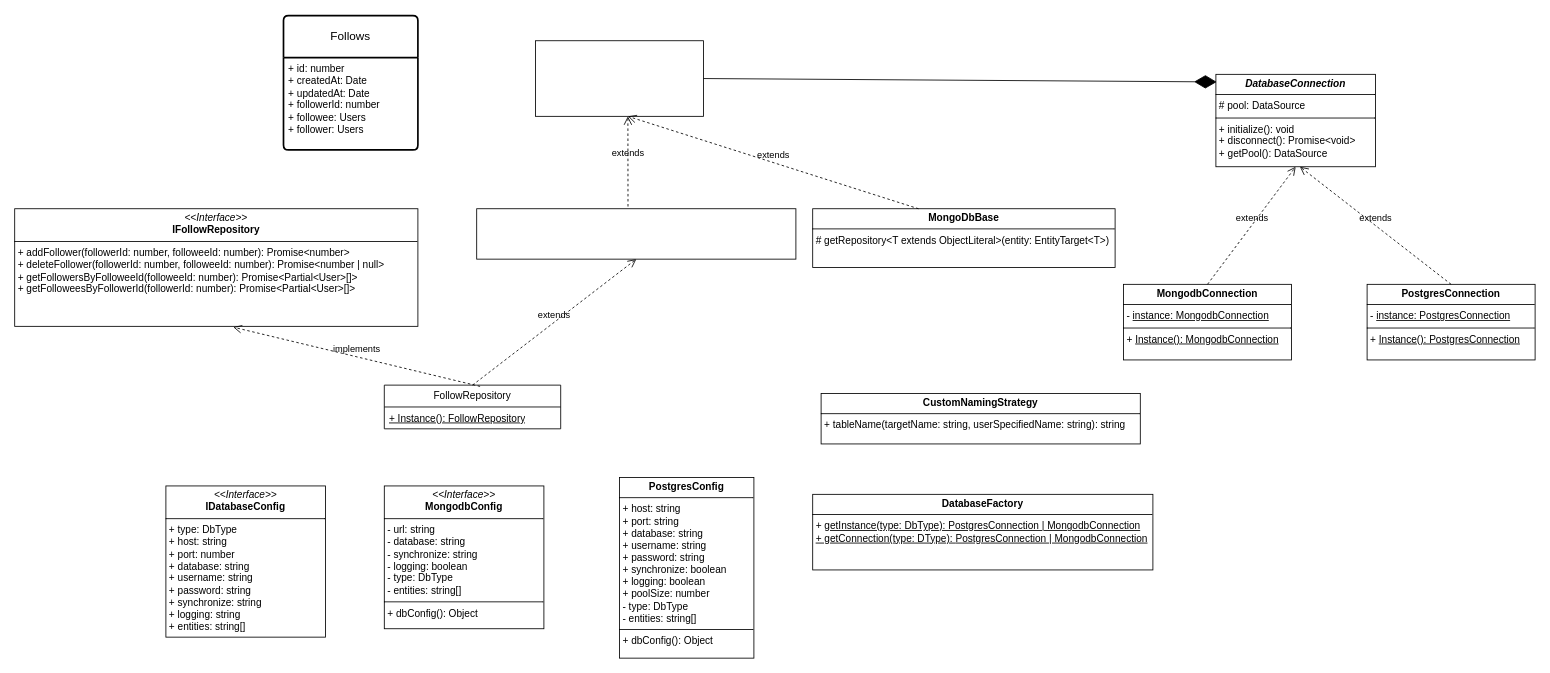
Some shapes in this 1550 by 673 pixel diagram are drawn without their labels. The shapes that lost their labels are listed below. From the top down, each one's centre as x and y in pixels, then its label:
At (619,78): "Base - connection: DatabaseConnection # getConnection(dbType: DbType):".
At (636,233): "PostgresBase # getRepository<T extends ObjectLiteral>(entity: EntityTarget<T>)".
